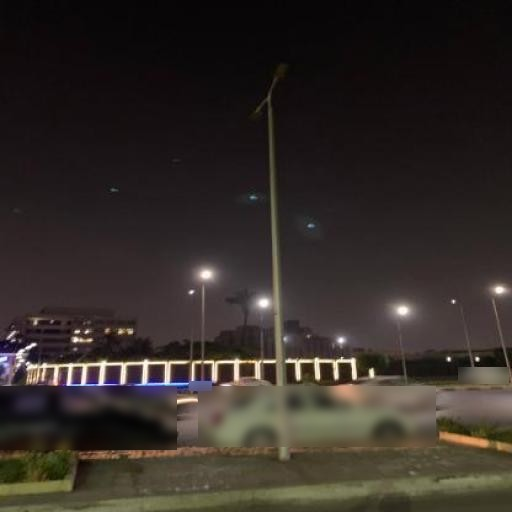acesa: (193, 264, 220, 281), (393, 301, 410, 319), (253, 295, 272, 310), (491, 282, 508, 296), (336, 334, 347, 345), (185, 287, 199, 295), (283, 335, 289, 344)
apagada: (269, 62, 289, 84), (246, 106, 264, 122)
